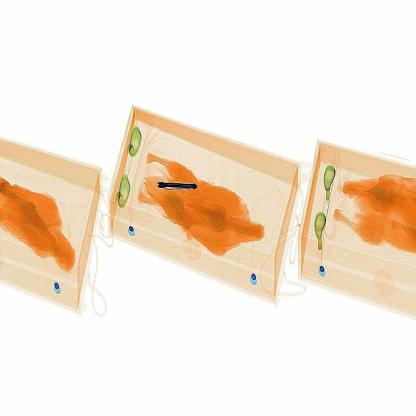knife: (155, 175, 210, 205)
